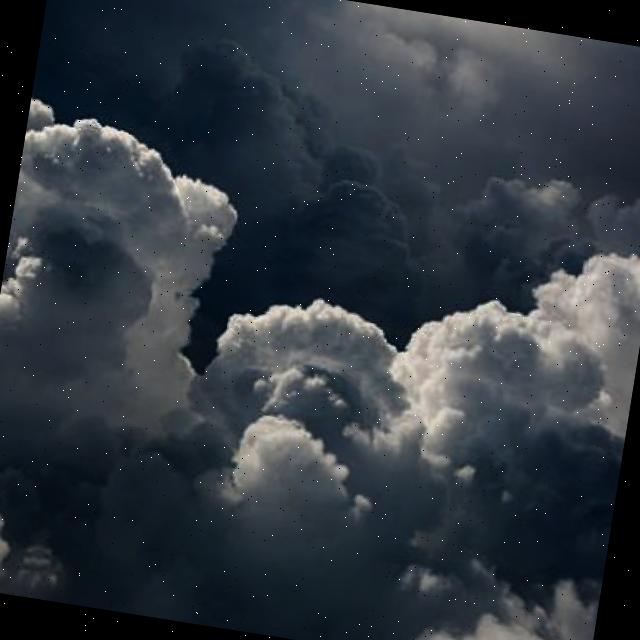Cu: (1, 68, 640, 640)
